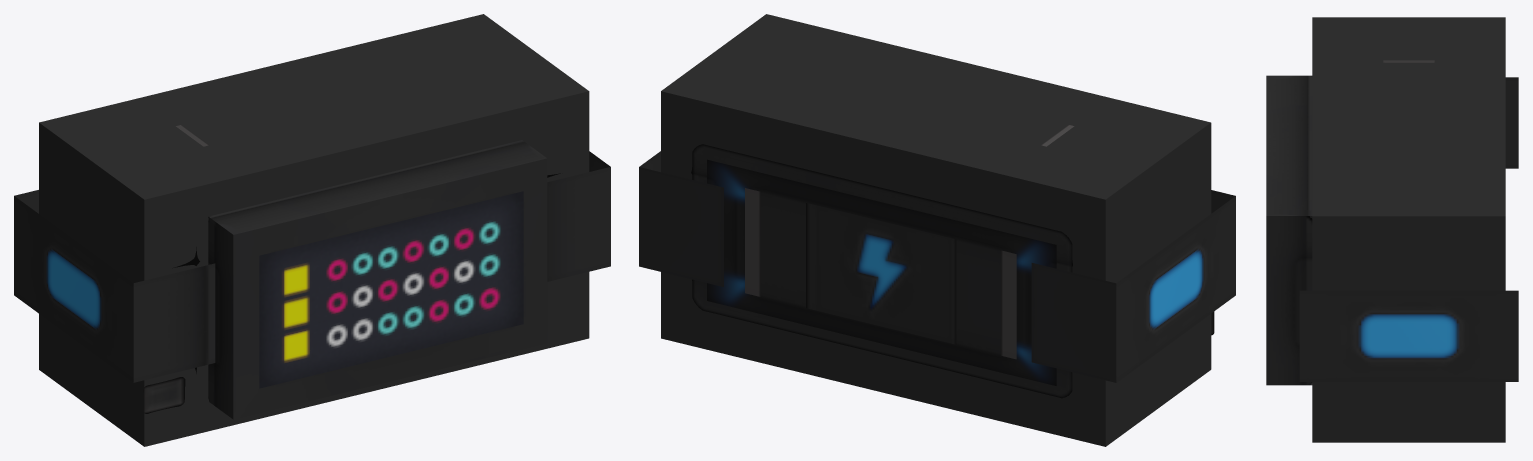
The model's file is obj_interactive_controller_04_lod1.fbx.
The picture shows the model from 3 angles, left to right: view 1: azimuth 30°, elevation 25°; view 2: azimuth 150°, elevation 25°; view 3: azimuth 270°, elevation 25°; orthographic projection. The views are drawn at different scales.
Visible parts, largest first — view 1: obj_interactive_controller_04_lod1; view 2: obj_interactive_controller_04_lod1; view 3: obj_interactive_controller_04_lod1.
Boxes of the visible parts, box(x1,y1,x2,y2) form: obj_interactive_controller_04_lod1: box(14, 14, 610, 446); obj_interactive_controller_04_lod1: box(639, 14, 1235, 446); obj_interactive_controller_04_lod1: box(1266, 17, 1518, 442).
Size of the model in its own units: 2 by 1 by 1.01.
Materials: 1 (1 with a texture image).
